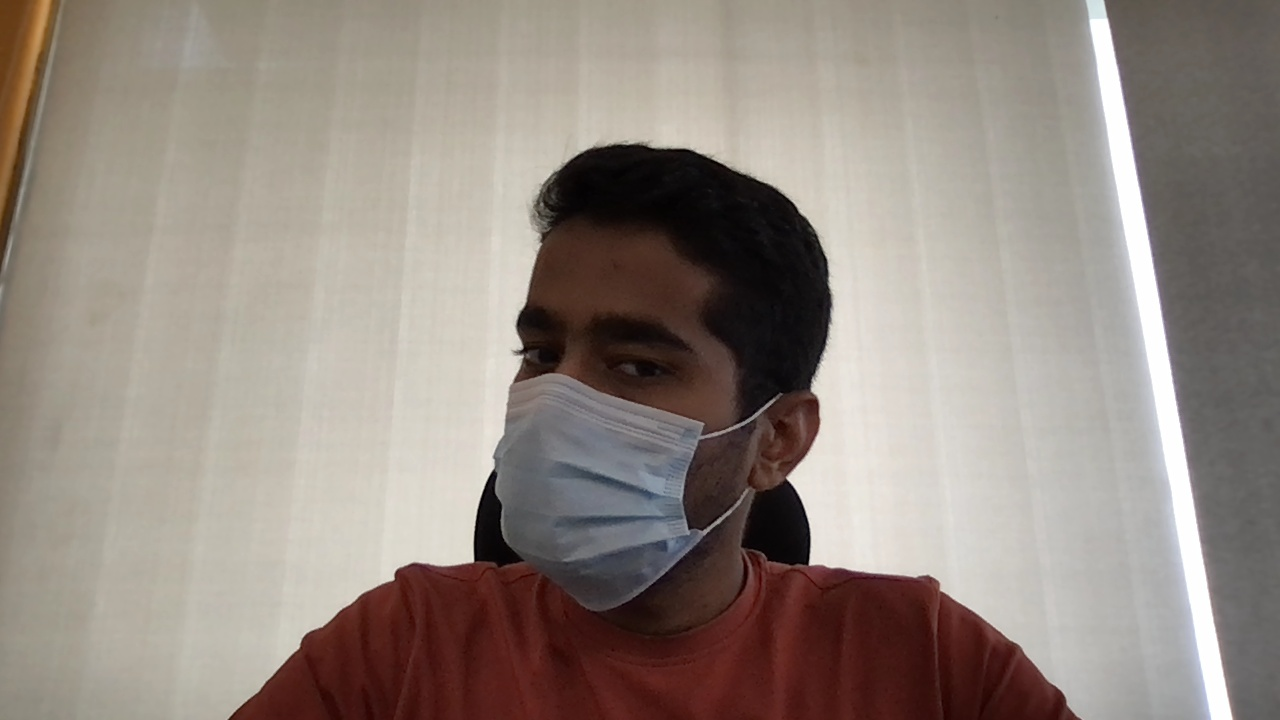mask: (491, 373, 707, 614)
